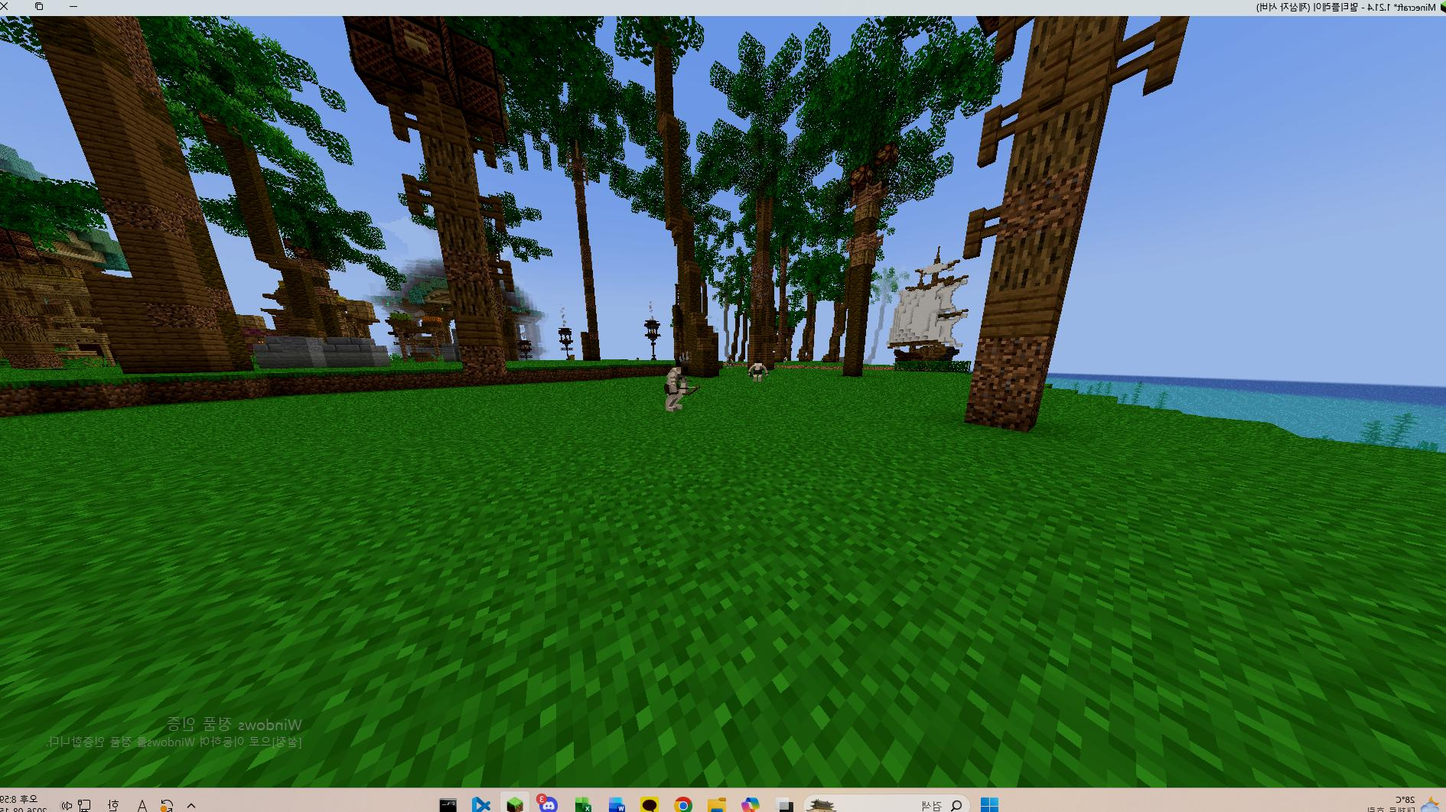bow_indian: (655, 356, 706, 426)
